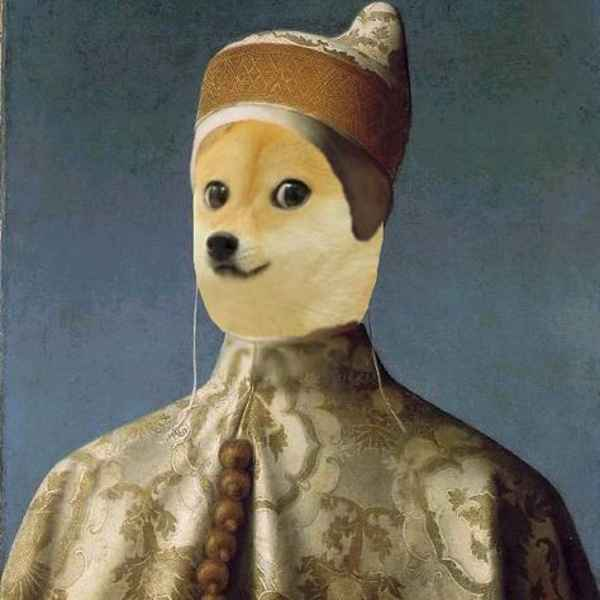doge: (179, 128, 374, 336)
